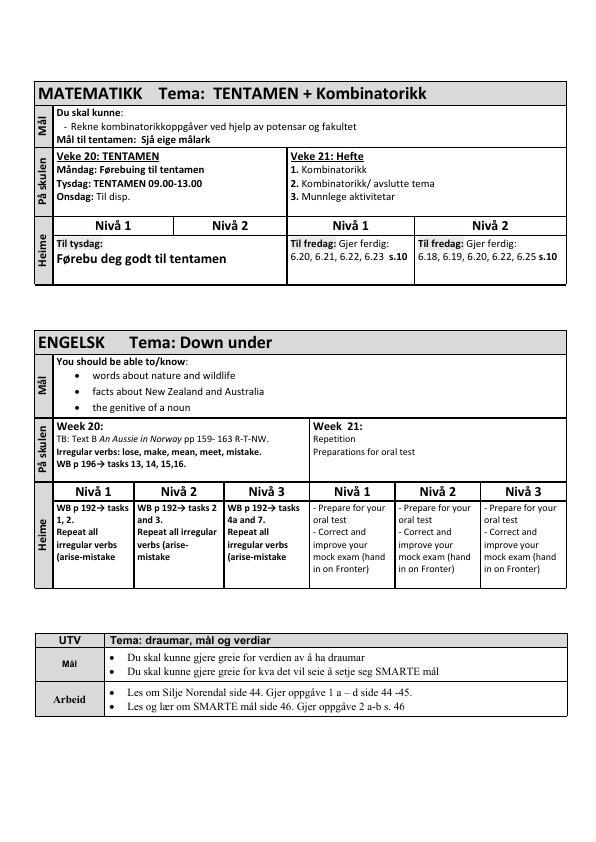table: (30, 327, 568, 592), (33, 78, 569, 288), (34, 631, 570, 720)
